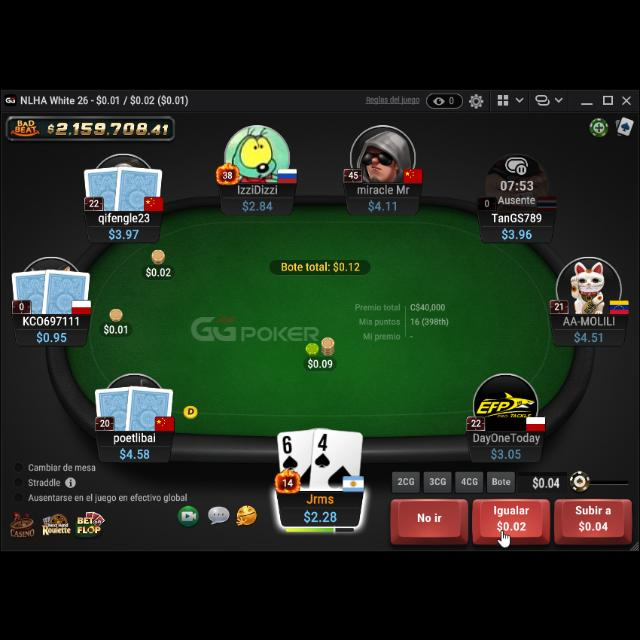4s: (314, 429, 332, 467)
6s: (281, 431, 301, 471)
bet_text: (306, 353, 334, 367), (144, 263, 172, 275), (103, 320, 129, 332)
card_back: (124, 380, 174, 430), (42, 263, 92, 313), (114, 162, 164, 210), (82, 162, 126, 210), (10, 266, 54, 312), (94, 382, 136, 428)
dealer: (182, 402, 198, 418)
hero_active: (388, 494, 632, 544)
pot_text: (276, 259, 362, 271)
stack_text: (302, 504, 338, 522), (490, 443, 522, 459), (573, 326, 605, 342), (36, 326, 68, 340), (108, 224, 140, 238), (242, 195, 274, 209), (501, 224, 533, 238), (119, 443, 151, 457), (367, 195, 398, 209)
